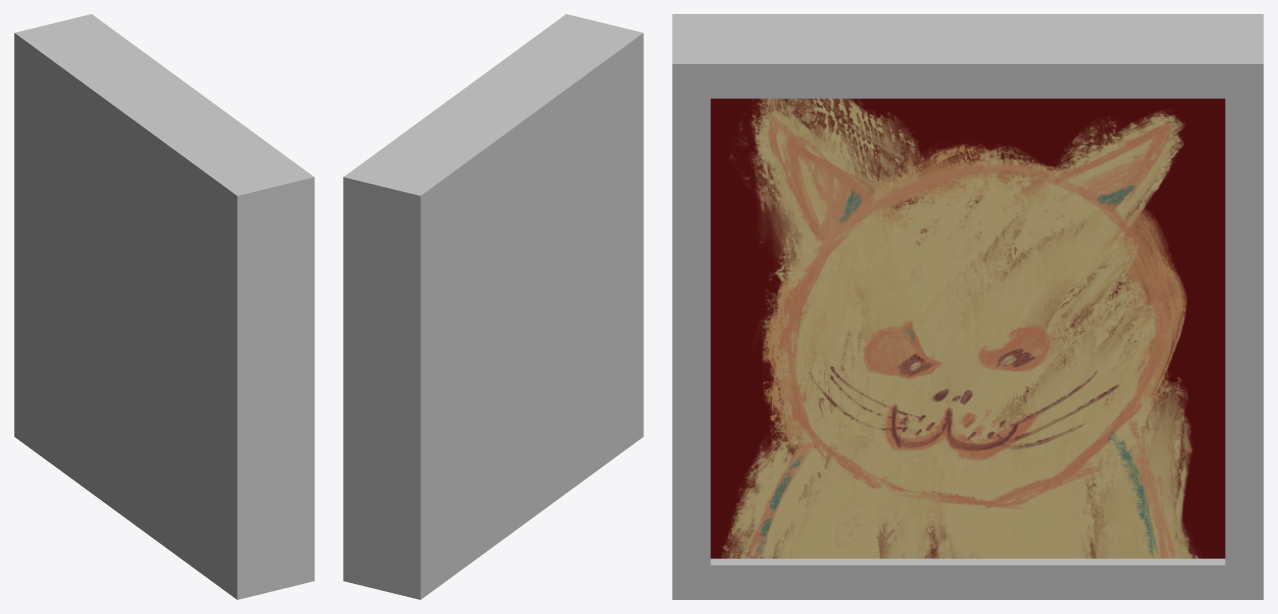
The model's file is image.fbx.
3 views of the same model, side by side, from view 1: azimuth 30°, elevation 25°; view 2: azimuth 150°, elevation 25°; view 3: azimuth 270°, elevation 25° (orthographic). The views are drawn at different scales.
Parts seen in each view (by area): view 1: Cube; view 2: Cube; view 3: Cube.
Boxes of the visible parts, left/top/right/bottom form: Cube: left=14, top=14, right=314, bottom=599; Cube: left=343, top=14, right=643, bottom=599; Cube: left=672, top=14, right=1263, bottom=599.
Bounding box in the file's own units: 40 × 200 × 200.
